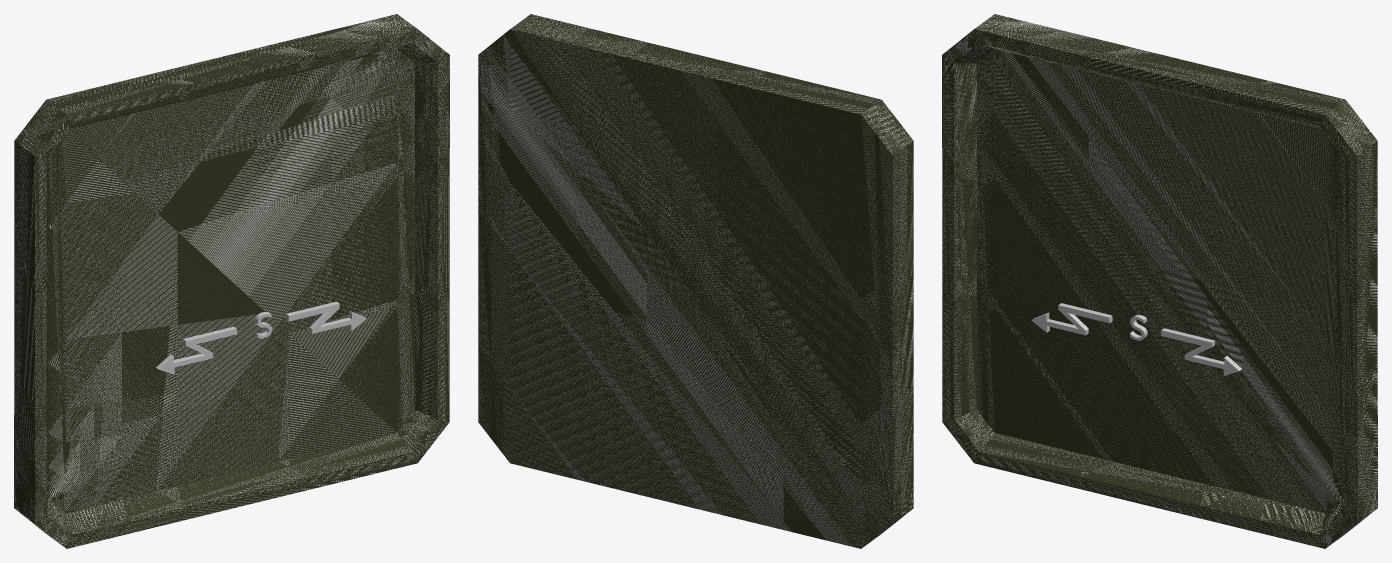
The model's file is CM_-_small_S.obj.
The picture shows the model from 3 angles, left to right: view 1: azimuth 30°, elevation 25°; view 2: azimuth 150°, elevation 25°; view 3: azimuth 330°, elevation 25°; orthographic projection.
Parts seen in each view (by area): view 1: Button.001_ID13, Button_ID3, SM_CM_-_small_S_mesh.027; view 2: Button_ID3; view 3: Button.001_ID13, Button_ID3, SM_CM_-_small_S_mesh.027.
Part boxes in pixels (left/top/right/bottom): Button.001_ID13: left=47, top=43, right=437, bottom=534; Button_ID3: left=14, top=14, right=449, bottom=548; SM_CM_-_small_S_mesh.027: left=156, top=301, right=366, bottom=374; Button_ID3: left=478, top=14, right=913, bottom=548; Button.001_ID13: left=954, top=43, right=1344, bottom=534; Button_ID3: left=942, top=14, right=1377, bottom=548; SM_CM_-_small_S_mesh.027: left=1031, top=303, right=1241, bottom=375.
Bounding box in the file's own units: 1 × 1 × 0.1594.
